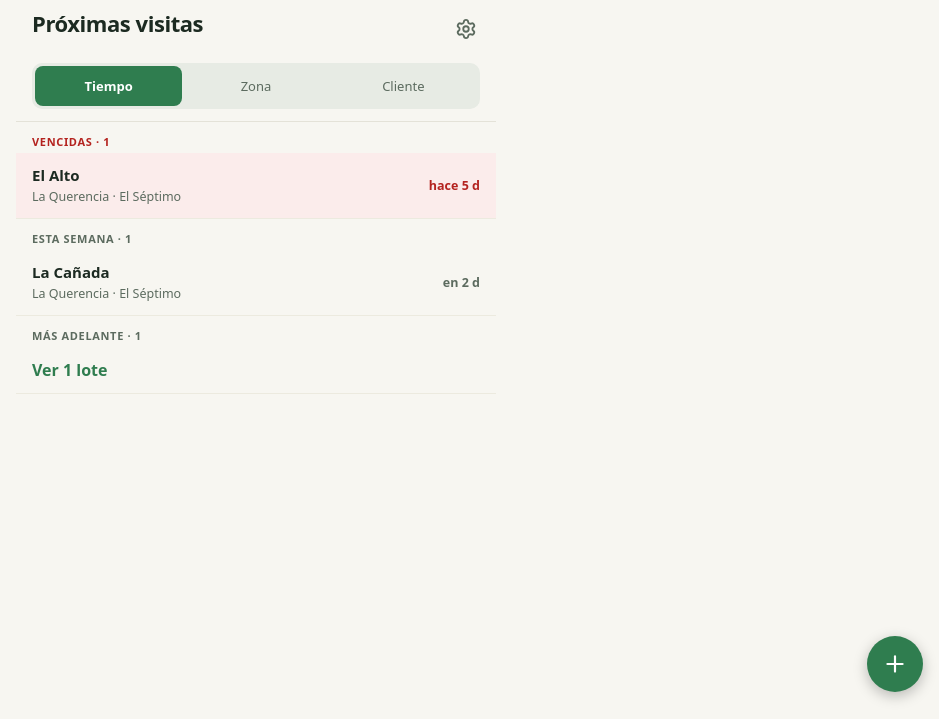
Test case: AgendaScreen › colapsa "Más adelante" y lo expande al tocarlo
The width and height of the screenshot is (939, 719).
Expected: the heading "Vencidas · 1" is shown, [32,134,110,149]
Expected: the link "Potrero 4" is not shown
Click the button "Ver 1 lote": coordinates (47, 370) [16,347,496,394]
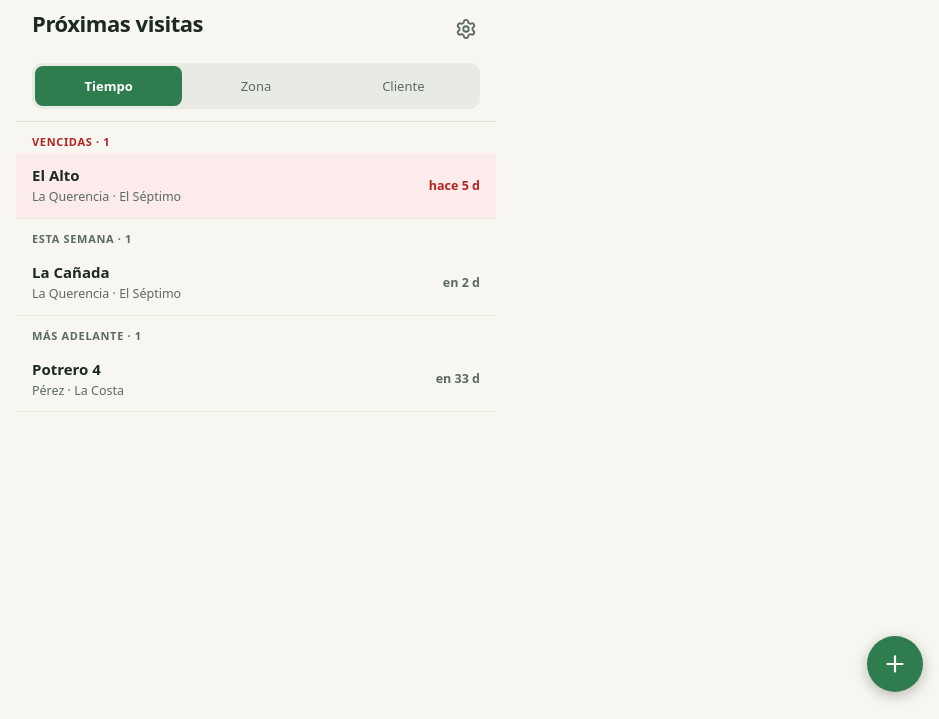
Expected: the link "Potrero 4 Pérez · La Costa en 33 d" is shown, [16,347,496,412]
